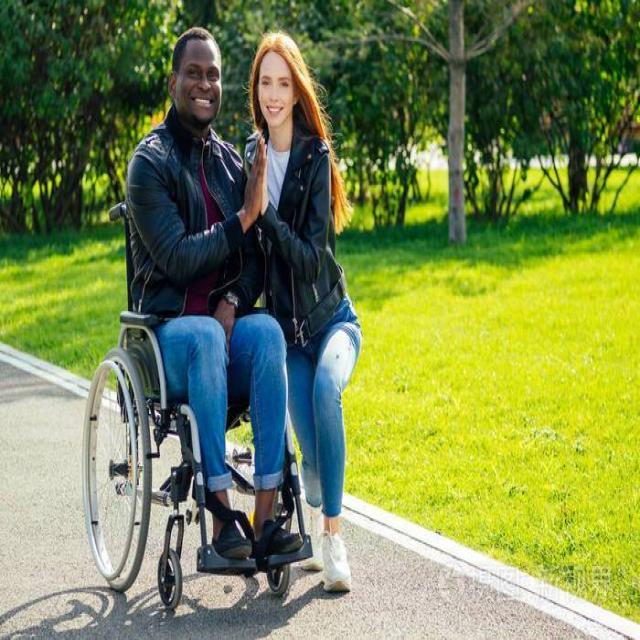wheelchairs: (73, 193, 335, 609)
